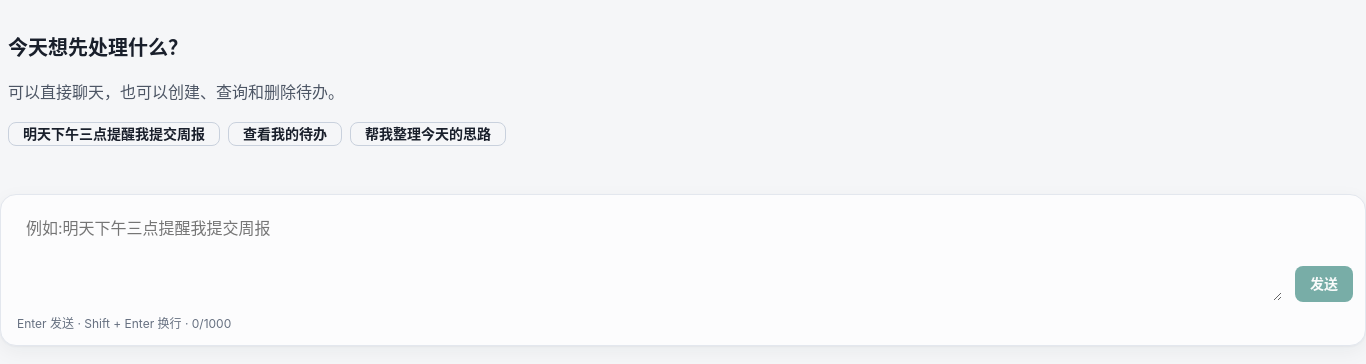
Scenario: sends the turn with the browser timezone and echoes the resolved time
This screenshot has width=1366, height=364.
Type "明天下午三点提醒我提交周报" into the text box named "消息". click: coordinates (650, 254)
box: [17,207,1283,302]
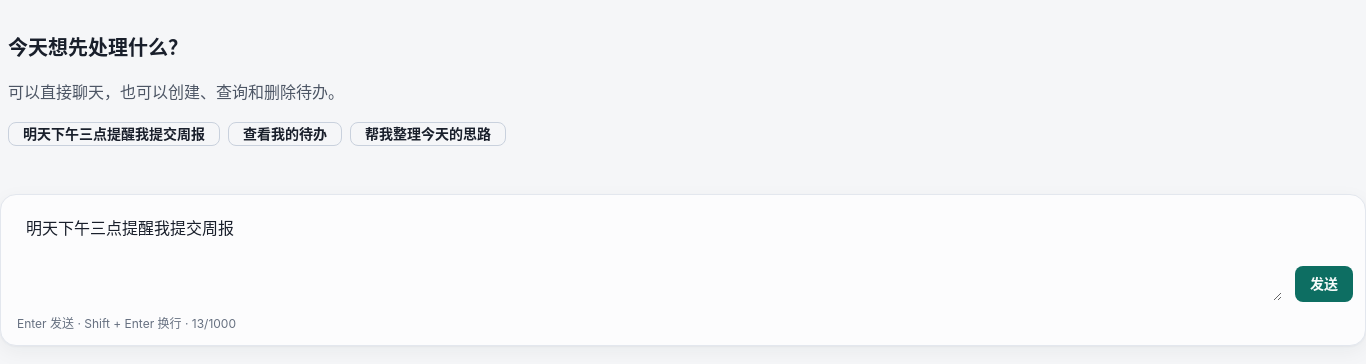
Click the button "发送". click: coordinates (1324, 284)
box: [1295,266,1353,302]
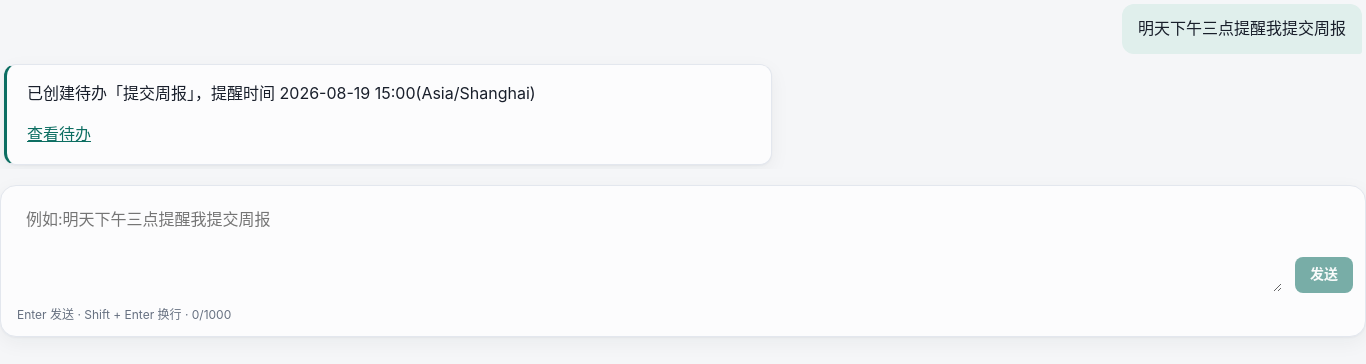
Result: the text "已创建待办「提交周报」，提醒时间 2026-08-19 15:00(Asia/Shanghai)" is shown at [27,83,536,103]
Result: the text "，提醒时间 2026-08-19 15:00(Asia/Shanghai)" is shown at [195,83,536,103]
